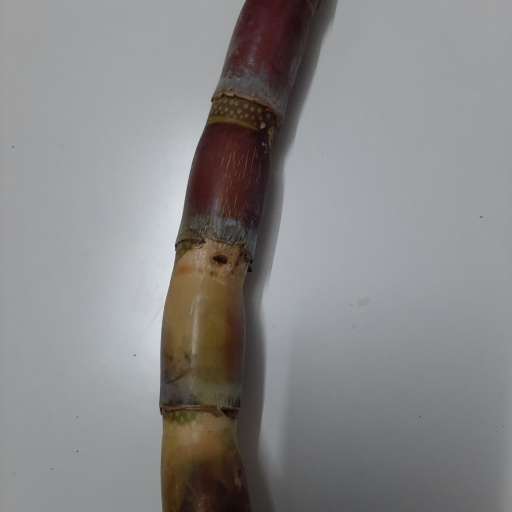Damage_Bud: (208, 251, 231, 269)
